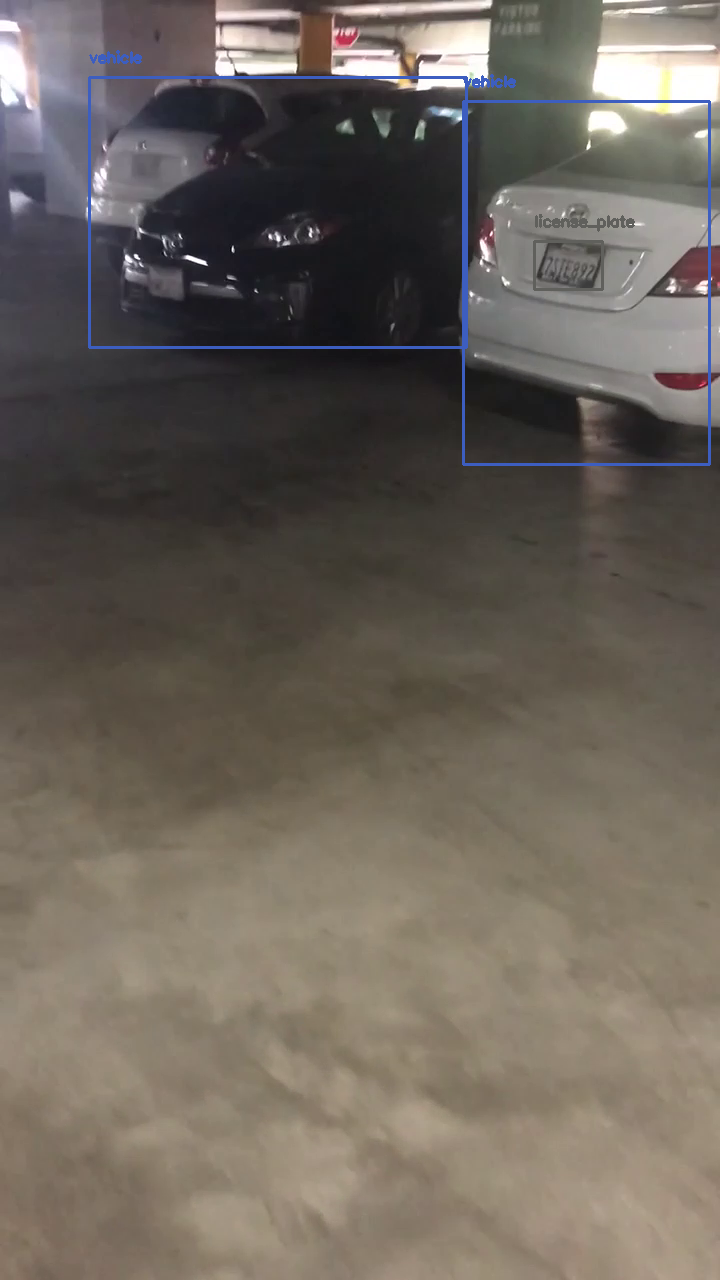license_plate: (534, 241, 602, 289)
vehicle: (89, 77, 466, 347), (463, 101, 709, 464)
